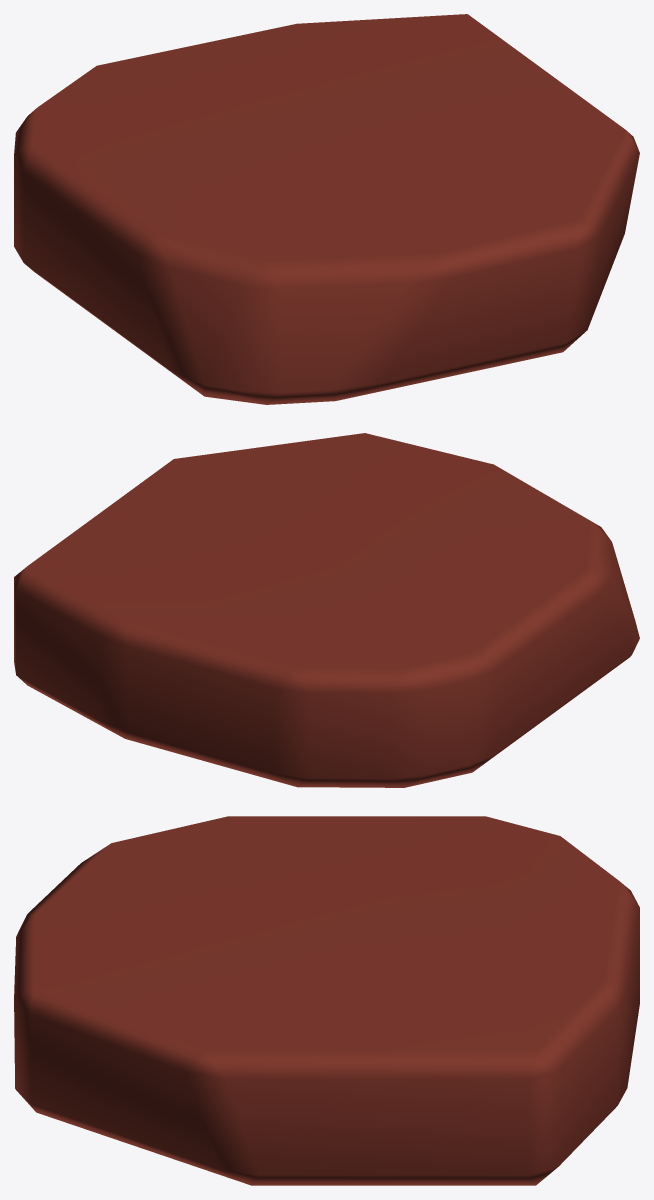
Rendered from obstacle_9_001.fbx.
The picture shows the model from 3 angles, top to bottom: view 1: azimuth 30°, elevation 25°; view 2: azimuth 150°, elevation 25°; view 3: azimuth 270°, elevation 25°; orthographic projection. The views are drawn at different scales.
Parts seen in each view (by area): view 1: obstacle_9_001; view 2: obstacle_9_001; view 3: obstacle_9_001.
Part boxes in pixels (x1,y1,x2,y2): obstacle_9_001: (14, 14, 639, 404); obstacle_9_001: (14, 433, 639, 787); obstacle_9_001: (14, 816, 639, 1185).
Size of the model in its own units: 248 by 260 by 62.
